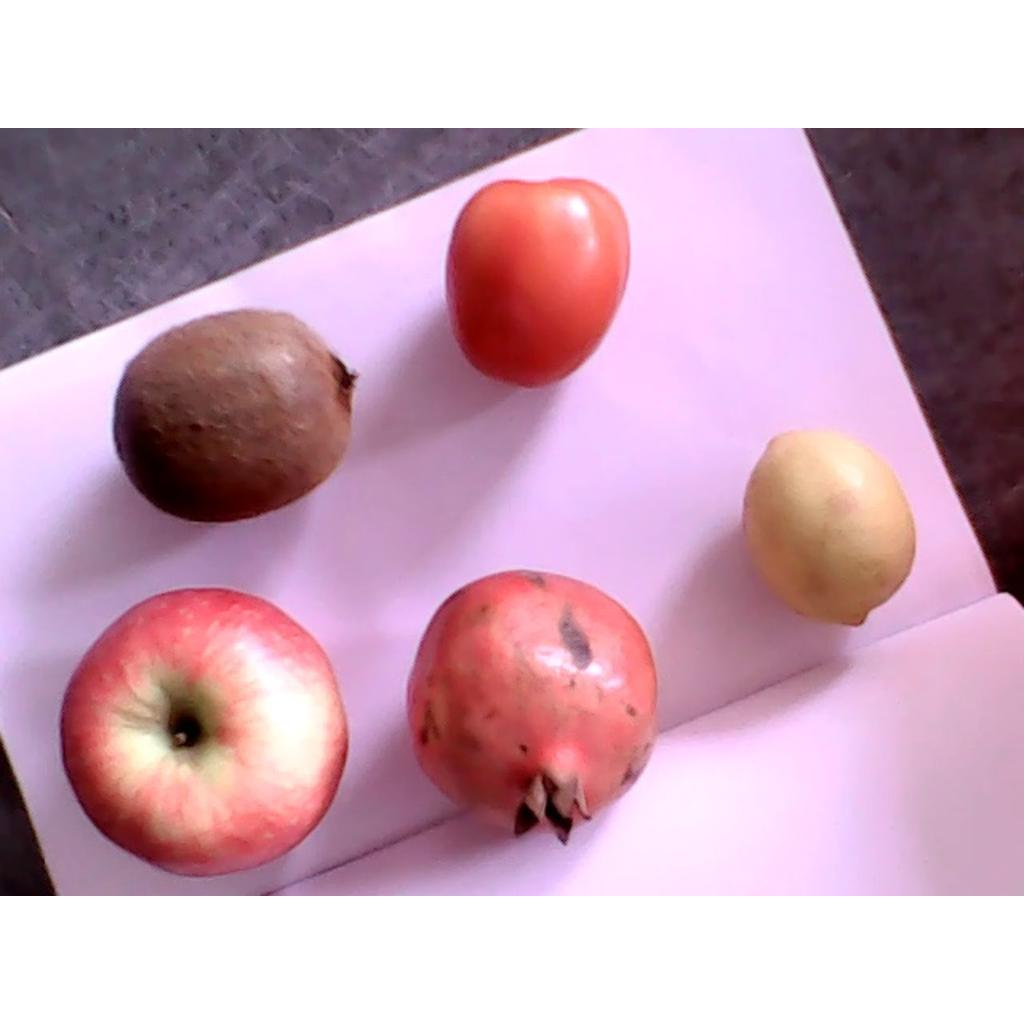apple: (61, 589, 348, 876)
kiwi: (115, 310, 359, 523)
lemon: (744, 428, 914, 623)
pomegranate: (403, 570, 656, 845)
tomato: (448, 176, 631, 387)
